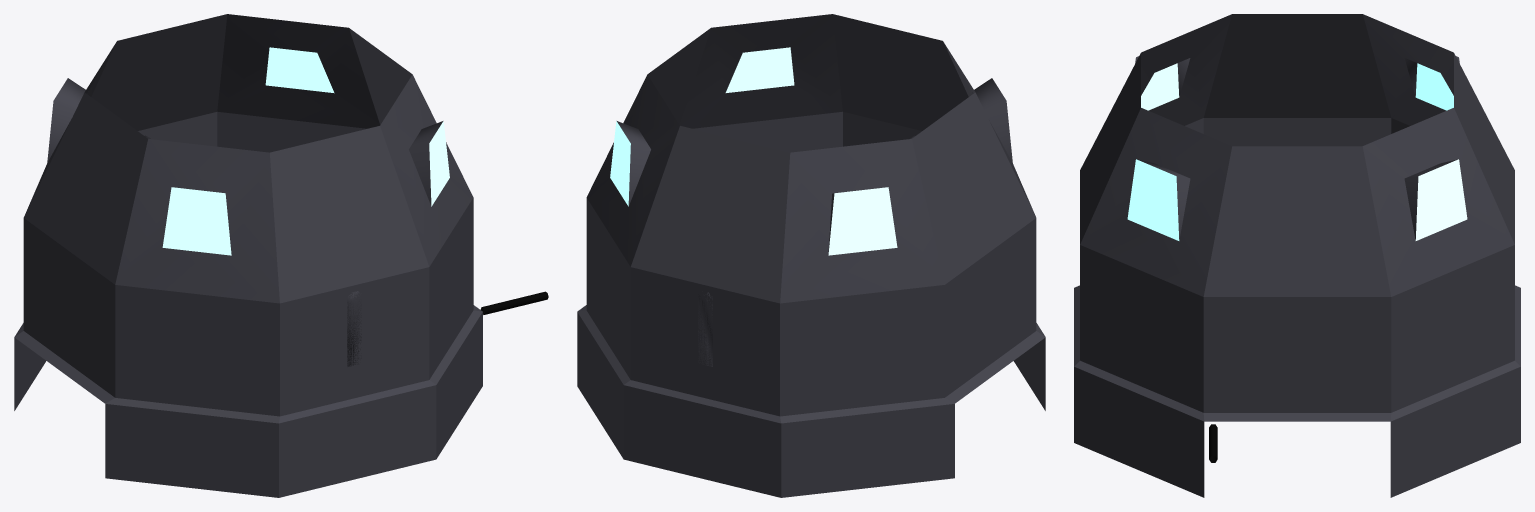
File: Aderir.fbx
3 views of the same model, side by side, from view 1: azimuth 30°, elevation 25°; view 2: azimuth 150°, elevation 25°; view 3: azimuth 270°, elevation 25° (orthographic). The views are drawn at different scales.
Visible parts, largest first — view 1: Muro, Circle; view 2: Muro; view 3: Muro.
Boxes of the visible parts, bbox=[...] form: Muro: bbox=[14, 14, 482, 497]; Circle: bbox=[480, 291, 548, 314]; Muro: bbox=[577, 14, 1045, 497]; Muro: bbox=[1074, 14, 1520, 497].
Size of the model in its own units: 6200 by 4203 by 5253.
2 materials, 2 textured.
